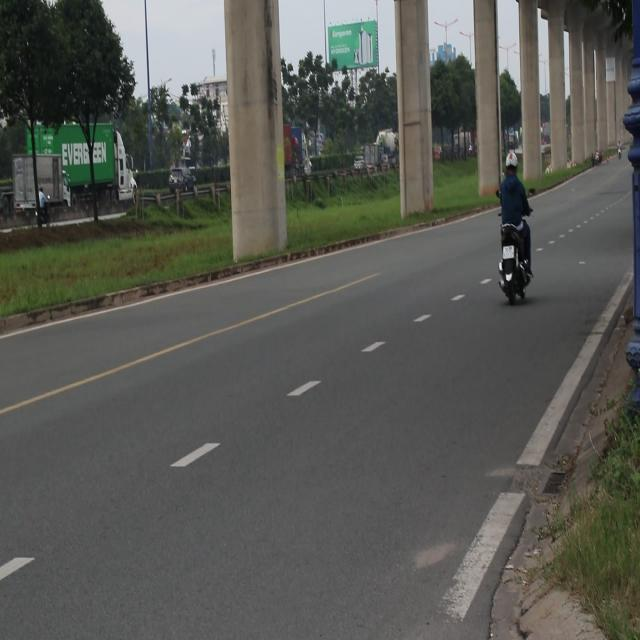car: (167, 167, 195, 194), (346, 141, 362, 175)
motorbike: (498, 222, 534, 304), (32, 180, 56, 223)
truck: (1, 122, 138, 226), (8, 154, 76, 216), (278, 114, 312, 182), (365, 134, 380, 171)
